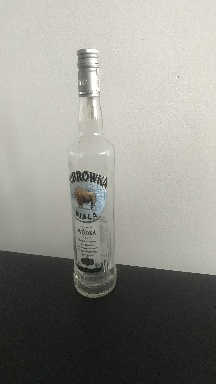butelka: (65, 44, 118, 300)
